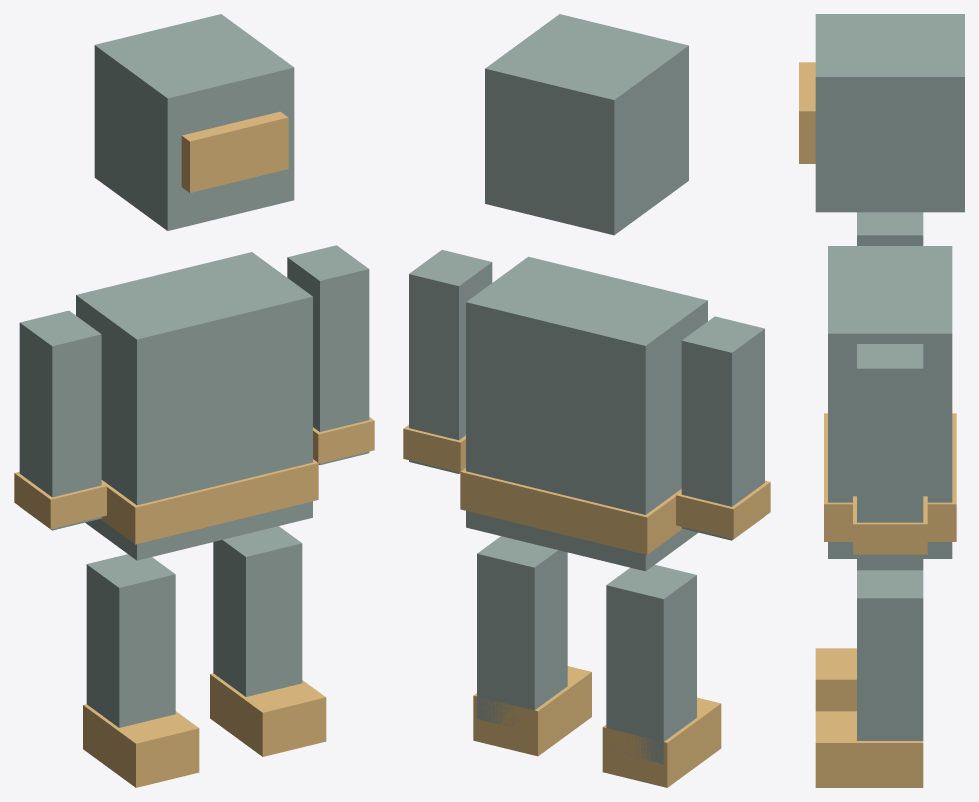
Rendered from mannequin.glb.
3 renders of one model, left to right at view 1: azimuth 30°, elevation 25°; view 2: azimuth 150°, elevation 25°; view 3: azimuth 270°, elevation 25°, orthographic.
Visible parts, largest first — view 1: Torso, Head, Leg_L_Mesh, Arm_L_Mesh, Leg_R_Mesh, Arm_R_Mesh, Belt, Boot_L, Boot_R, Visor, Cuff_L, Cuff_R; view 2: Torso, Head, Leg_L_Mesh, Leg_R_Mesh, Arm_L_Mesh, Arm_R_Mesh, Belt, Boot_L, Boot_R, Cuff_L, Cuff_R; view 3: Head, Torso, Arm_R_Mesh, Leg_R_Mesh, Boot_R, Belt, Cuff_R, Boot_L, Arm_L_Mesh, Visor, Leg_L_Mesh.
Boxes of the visible parts, left/top/right/bottom form: Torso: left=76, top=252, right=312, bottom=560; Head: left=94, top=14, right=294, bottom=230; Leg_L_Mesh: left=86, top=554, right=175, bottom=727; Arm_L_Mesh: left=19, top=310, right=101, bottom=530; Leg_R_Mesh: left=213, top=526, right=302, bottom=696; Arm_R_Mesh: left=287, top=245, right=369, bottom=465; Belt: left=101, top=459, right=318, bottom=544; Boot_L: left=83, top=704, right=199, bottom=787; Boot_R: left=210, top=673, right=326, bottom=756; Visor: left=181, top=111, right=288, bottom=192; Cuff_L: left=14, top=471, right=106, bottom=528; Cuff_R: left=313, top=417, right=374, bottom=463; Torso: left=466, top=256, right=707, bottom=571; Head: left=485, top=14, right=688, bottom=235; Leg_L_Mesh: left=606, top=565, right=696, bottom=764; Leg_R_Mesh: left=477, top=536, right=567, bottom=726; Arm_L_Mesh: left=681, top=316, right=764, bottom=540; Arm_R_Mesh: left=409, top=250, right=492, bottom=473; Belt: left=460, top=468, right=682, bottom=554; Boot_L: left=602, top=697, right=721, bottom=787; Boot_R: left=473, top=666, right=591, bottom=756; Cuff_L: left=676, top=480, right=770, bottom=539; Cuff_R: left=403, top=425, right=465, bottom=472; Head: left=815, top=14, right=964, bottom=212; Torso: left=828, top=246, right=952, bottom=558; Arm_R_Mesh: left=857, top=344, right=923, bottom=556; Leg_R_Mesh: left=857, top=570, right=923, bottom=740; Boot_R: left=815, top=711, right=923, bottom=787; Belt: left=824, top=413, right=956, bottom=541; Cuff_R: left=853, top=496, right=927, bottom=554; Boot_L: left=815, top=648, right=856, bottom=711; Arm_L_Mesh: left=857, top=212, right=923, bottom=245; Visor: left=799, top=62, right=815, bottom=163; Leg_L_Mesh: left=857, top=559, right=923, bottom=570.
Bounding box in the file's own units: 0.92 × 1.85 × 0.4.
